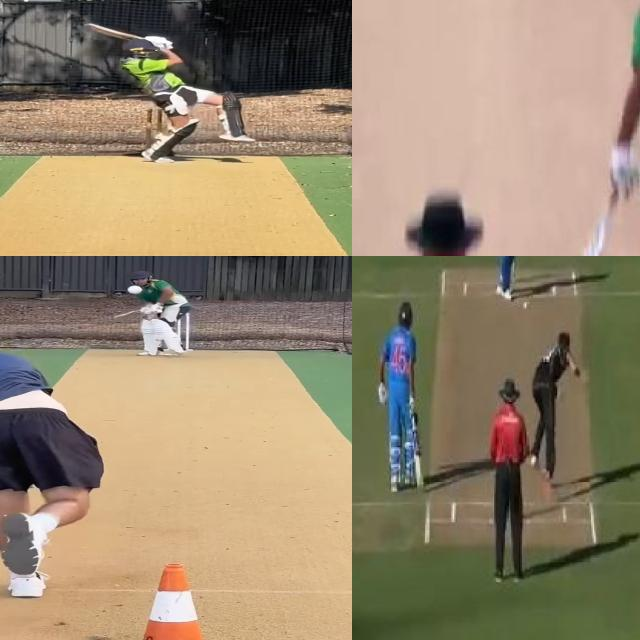Cricket ball: (126, 284, 145, 296), (522, 299, 532, 311)
